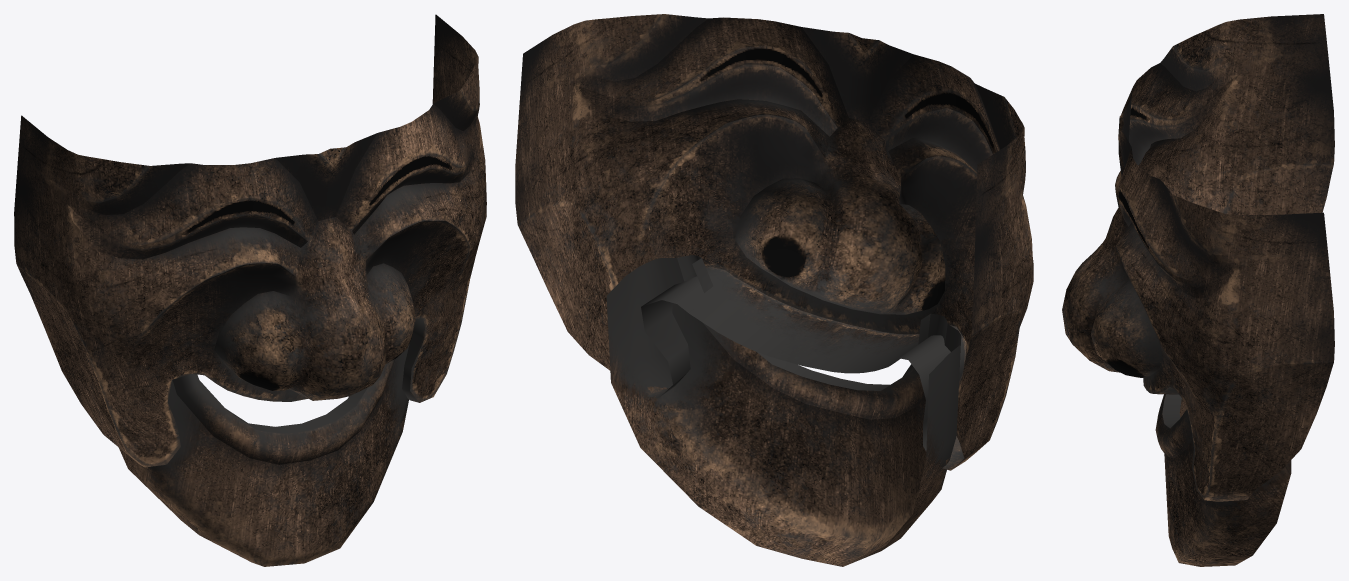
File: acc_01_b.fbx
The picture shows the model from 3 angles, left to right: view 1: azimuth 30°, elevation 25°; view 2: azimuth 150°, elevation 25°; view 3: azimuth 270°, elevation 25°; orthographic projection. The views are drawn at different scales.
Visible parts, largest first — view 1: musa_acc_01_b; view 2: musa_acc_01_b; view 3: musa_acc_01_b.
Part boxes in pixels (x1,y1,x2,y2): musa_acc_01_b: (14, 14, 486, 566); musa_acc_01_b: (515, 14, 1033, 566); musa_acc_01_b: (1062, 14, 1334, 566).
Bounding box in the file's own units: 24.78 × 25.27 × 14.24.
1 material, 1 textured.
